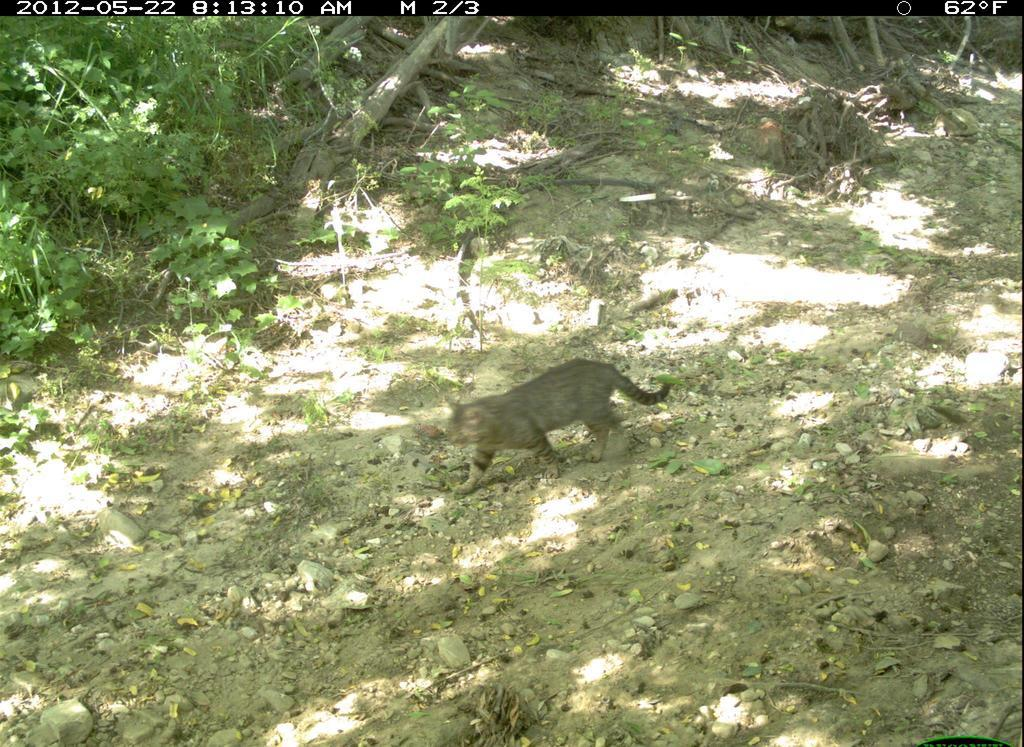cat: (438, 349, 681, 501)
